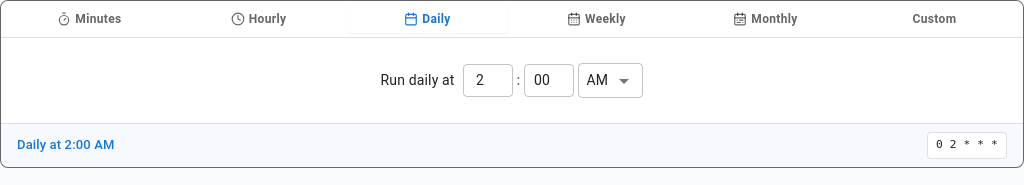
Test: CronBuilder › Preview display › updates preview when frequency changes
Check: the text "Daily at 2:00 AM" is shown, box x1=17 y1=136 x2=114 y2=155
Click the button "Minutes".
click(90, 19)  # box x1=9 y1=5 x2=170 y2=33
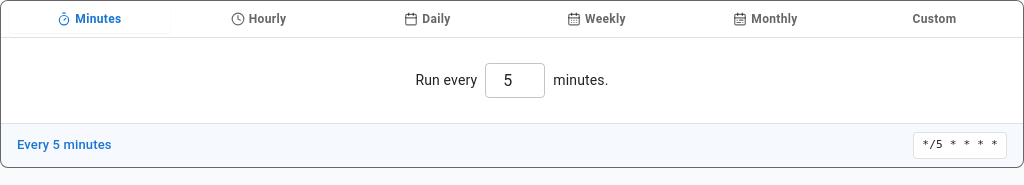
Check: the text "Every 5 minutes" is shown, box x1=17 y1=136 x2=112 y2=155
